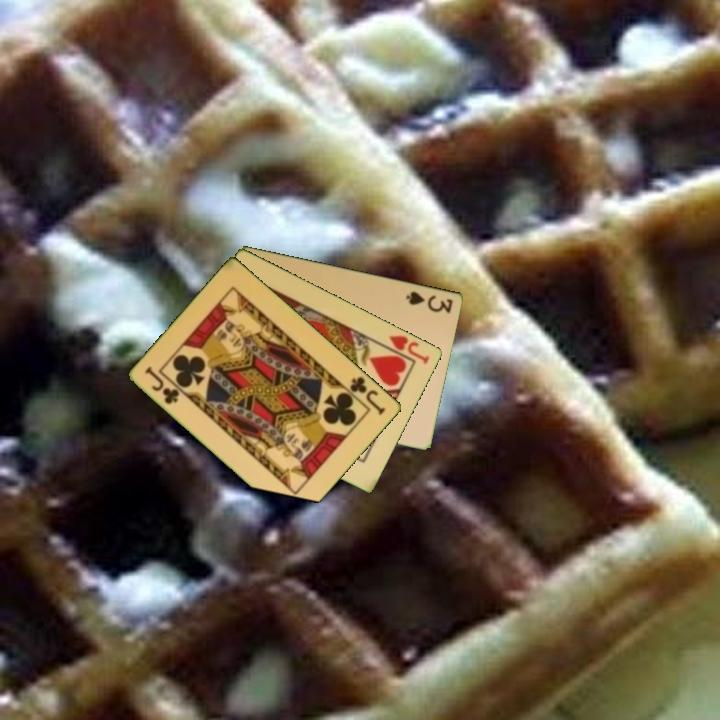3s: (403, 287, 456, 316)
Jc: (346, 373, 389, 418), (142, 363, 183, 407)
Jh: (385, 331, 433, 367)
